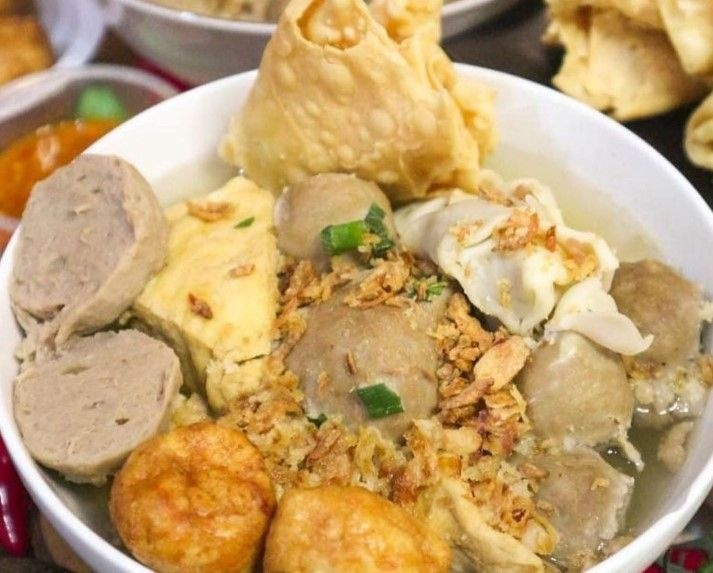bakso_malang: (8, 1, 713, 573)
